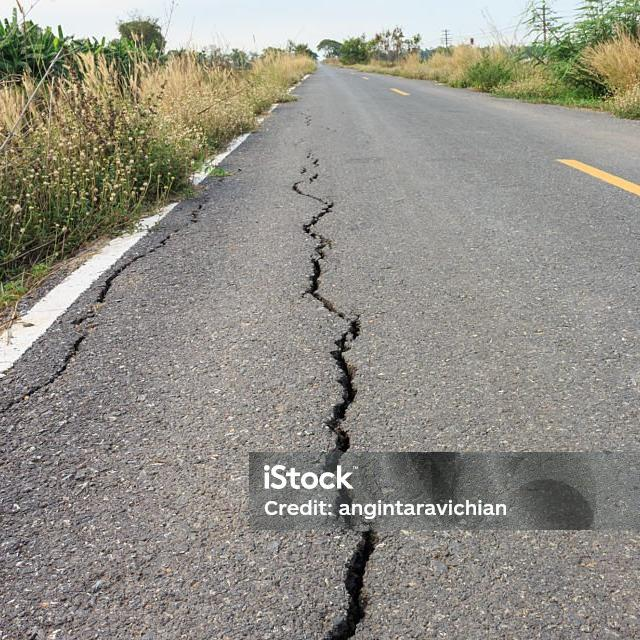retak_memanjang: (0, 182, 209, 452), (249, 120, 397, 446), (271, 532, 437, 640)
